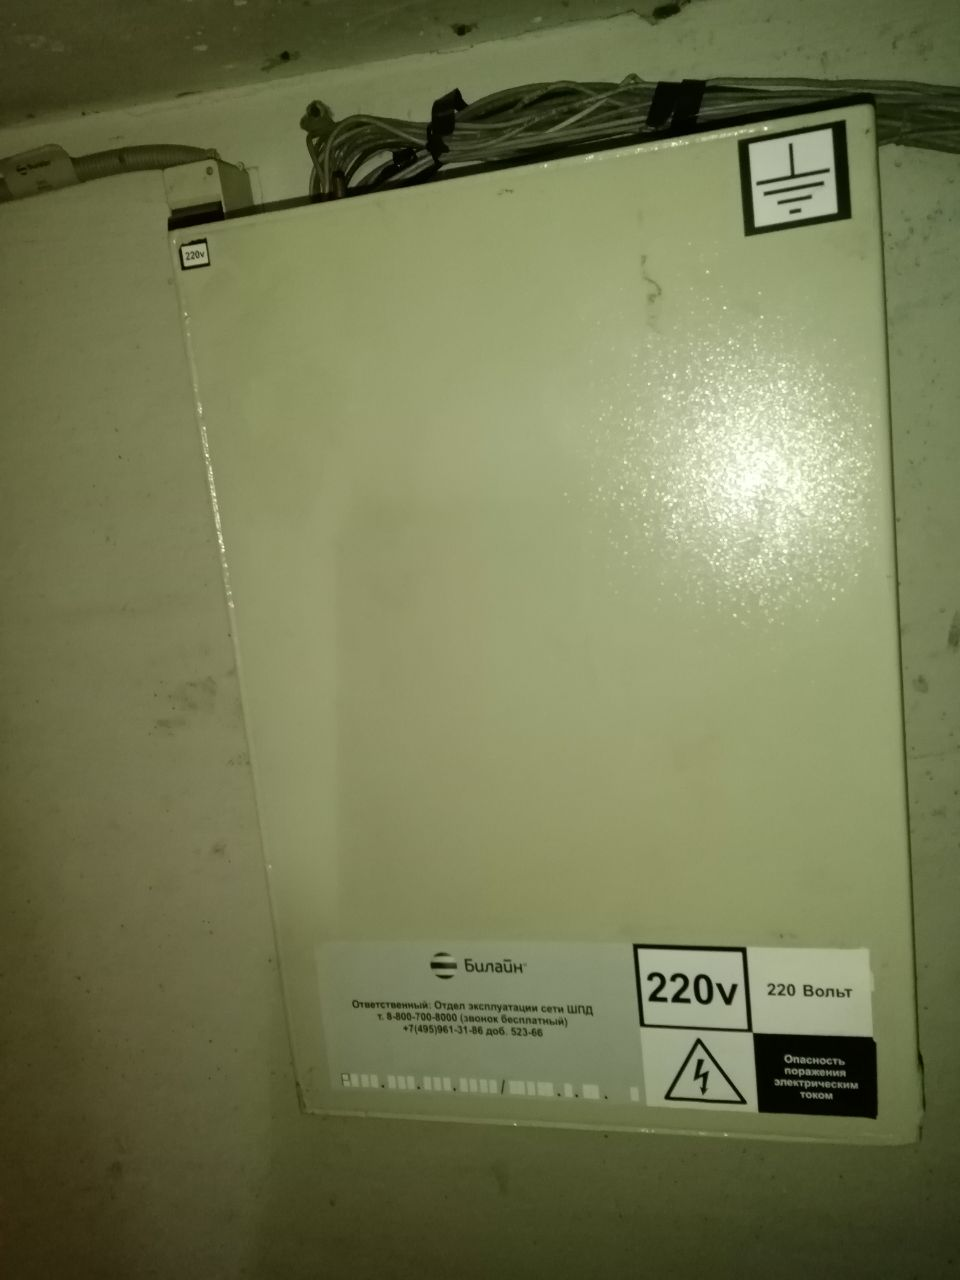sv-5: (158, 89, 931, 1161)
